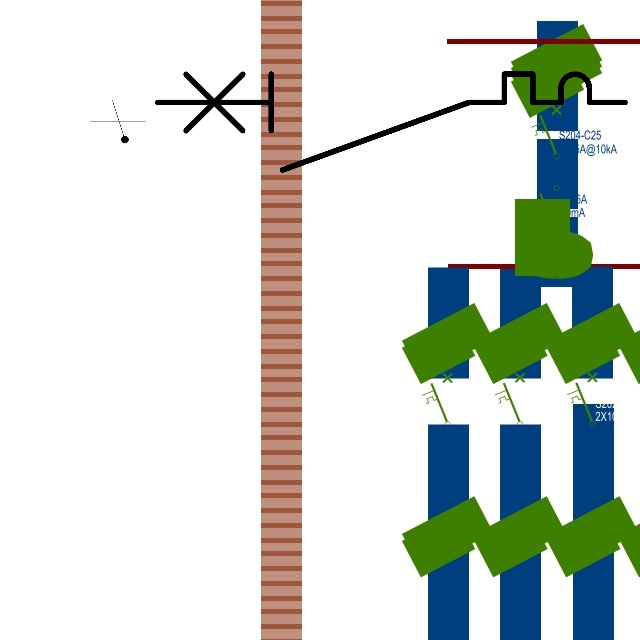interruptor_termomagnetico: (145, 62, 637, 182)
